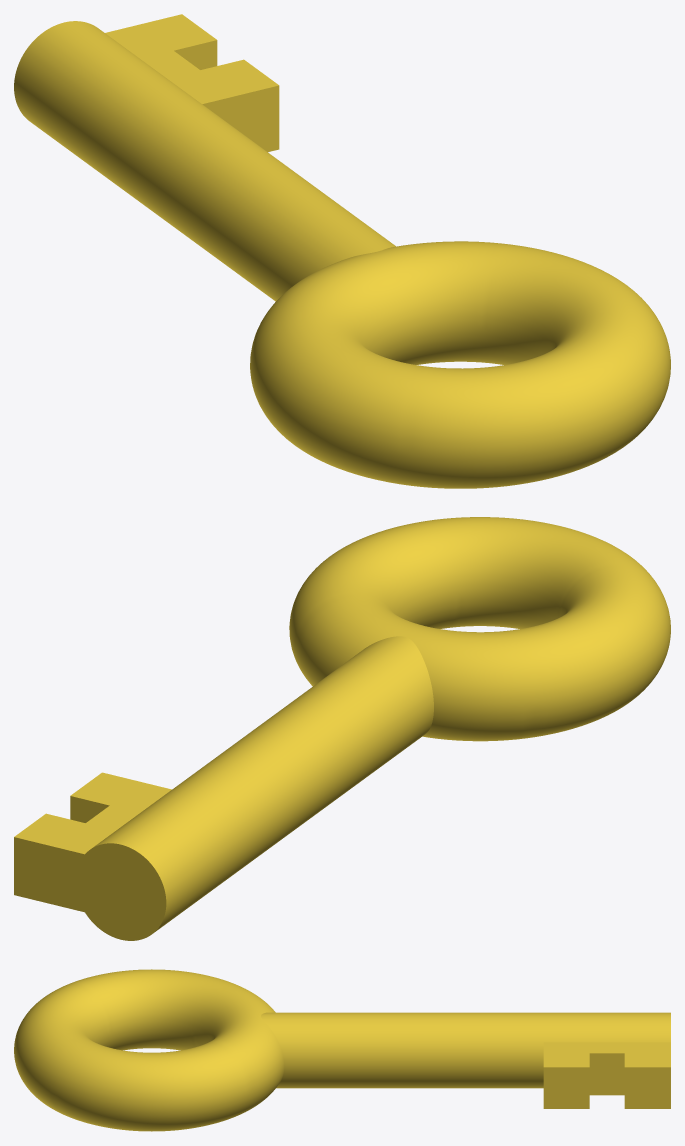
Rendered from simple_gold_key.glb.
3 views of the same model, one above another, from view 1: azimuth 30°, elevation 25°; view 2: azimuth 150°, elevation 25°; view 3: azimuth 270°, elevation 25° (orthographic). The views are drawn at different scales.
Visible parts, largest first — view 1: Object_2, Object_3; view 2: Object_2, Object_3; view 3: Object_2, Object_3.
Boxes of the visible parts, left/top/right/bottom form: Object_2: left=250, top=241, right=670, bottom=488; Object_3: left=14, top=14, right=395, bottom=301; Object_2: left=289, top=517, right=670, bottom=741; Object_3: left=14, top=636, right=433, bottom=940; Object_2: left=14, top=969, right=284, bottom=1131; Object_3: left=261, top=1012, right=670, bottom=1108.
Size of the model in its own units: 70 by 20 by 167.
